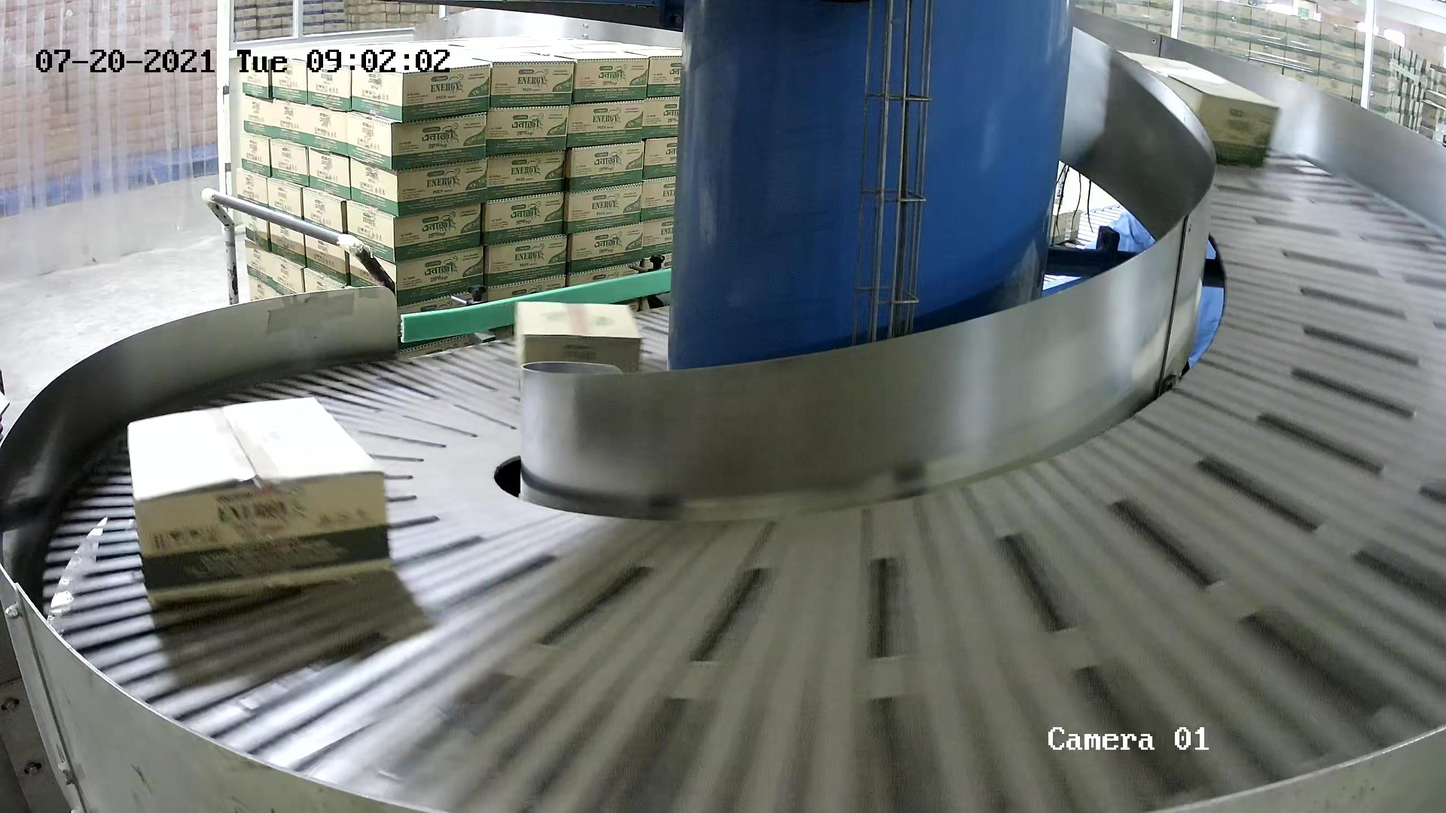Box: (126, 395, 393, 603), (1114, 49, 1282, 168)
